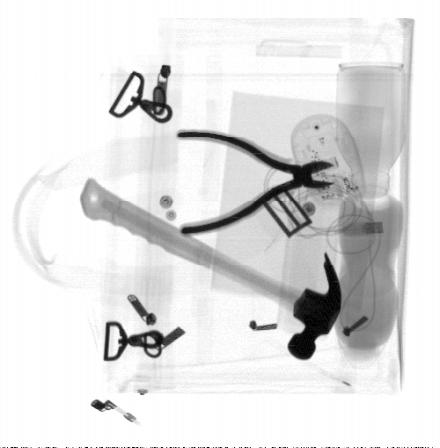Hammer: (78, 178, 343, 362)
Pliers: (175, 130, 335, 239)
